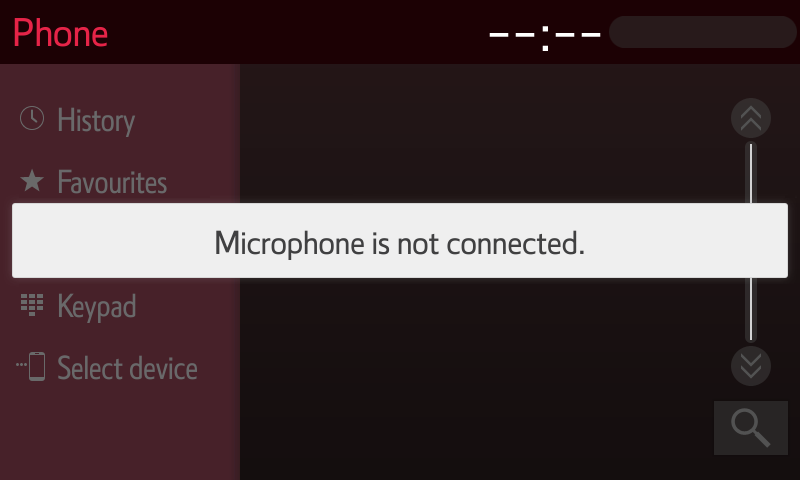untouchPart: (484, 3, 789, 57), (11, 350, 212, 393), (17, 95, 137, 145), (18, 286, 154, 329), (13, 163, 166, 201), (707, 398, 791, 463), (10, 13, 122, 48), (724, 342, 779, 390), (720, 90, 775, 137)
